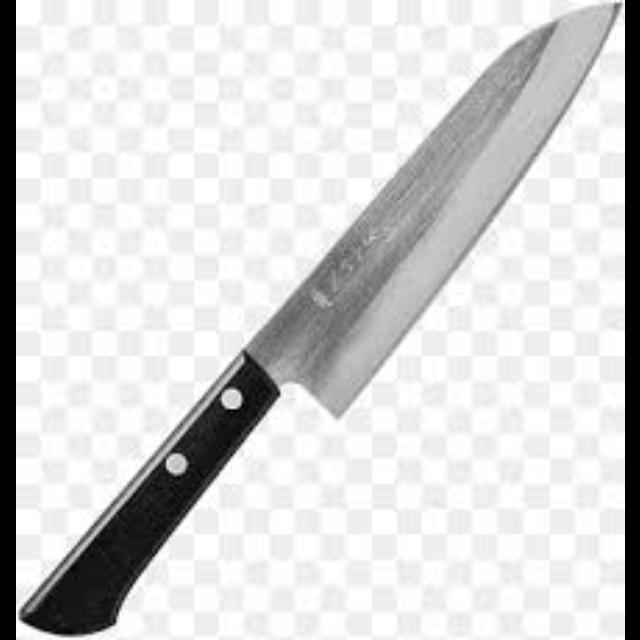Knife: (15, 0, 621, 634)
